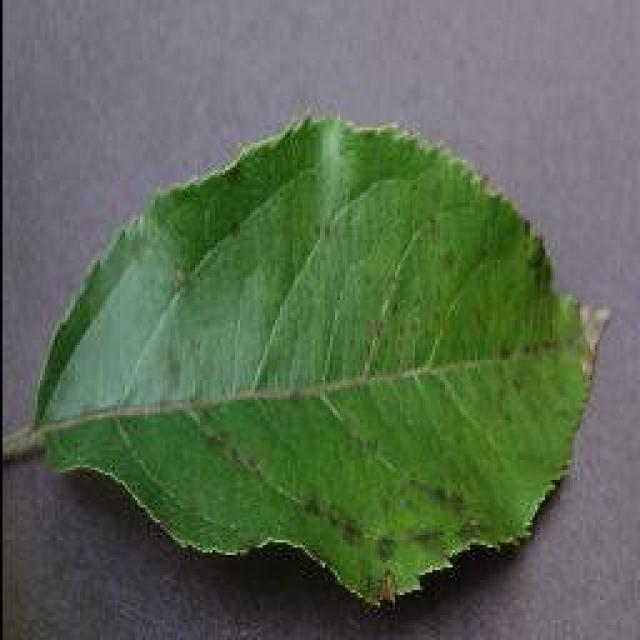apple scab disease: (15, 110, 610, 610)
